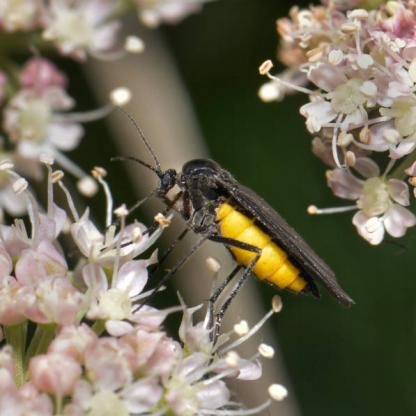sawfly: (102, 127, 361, 353)
